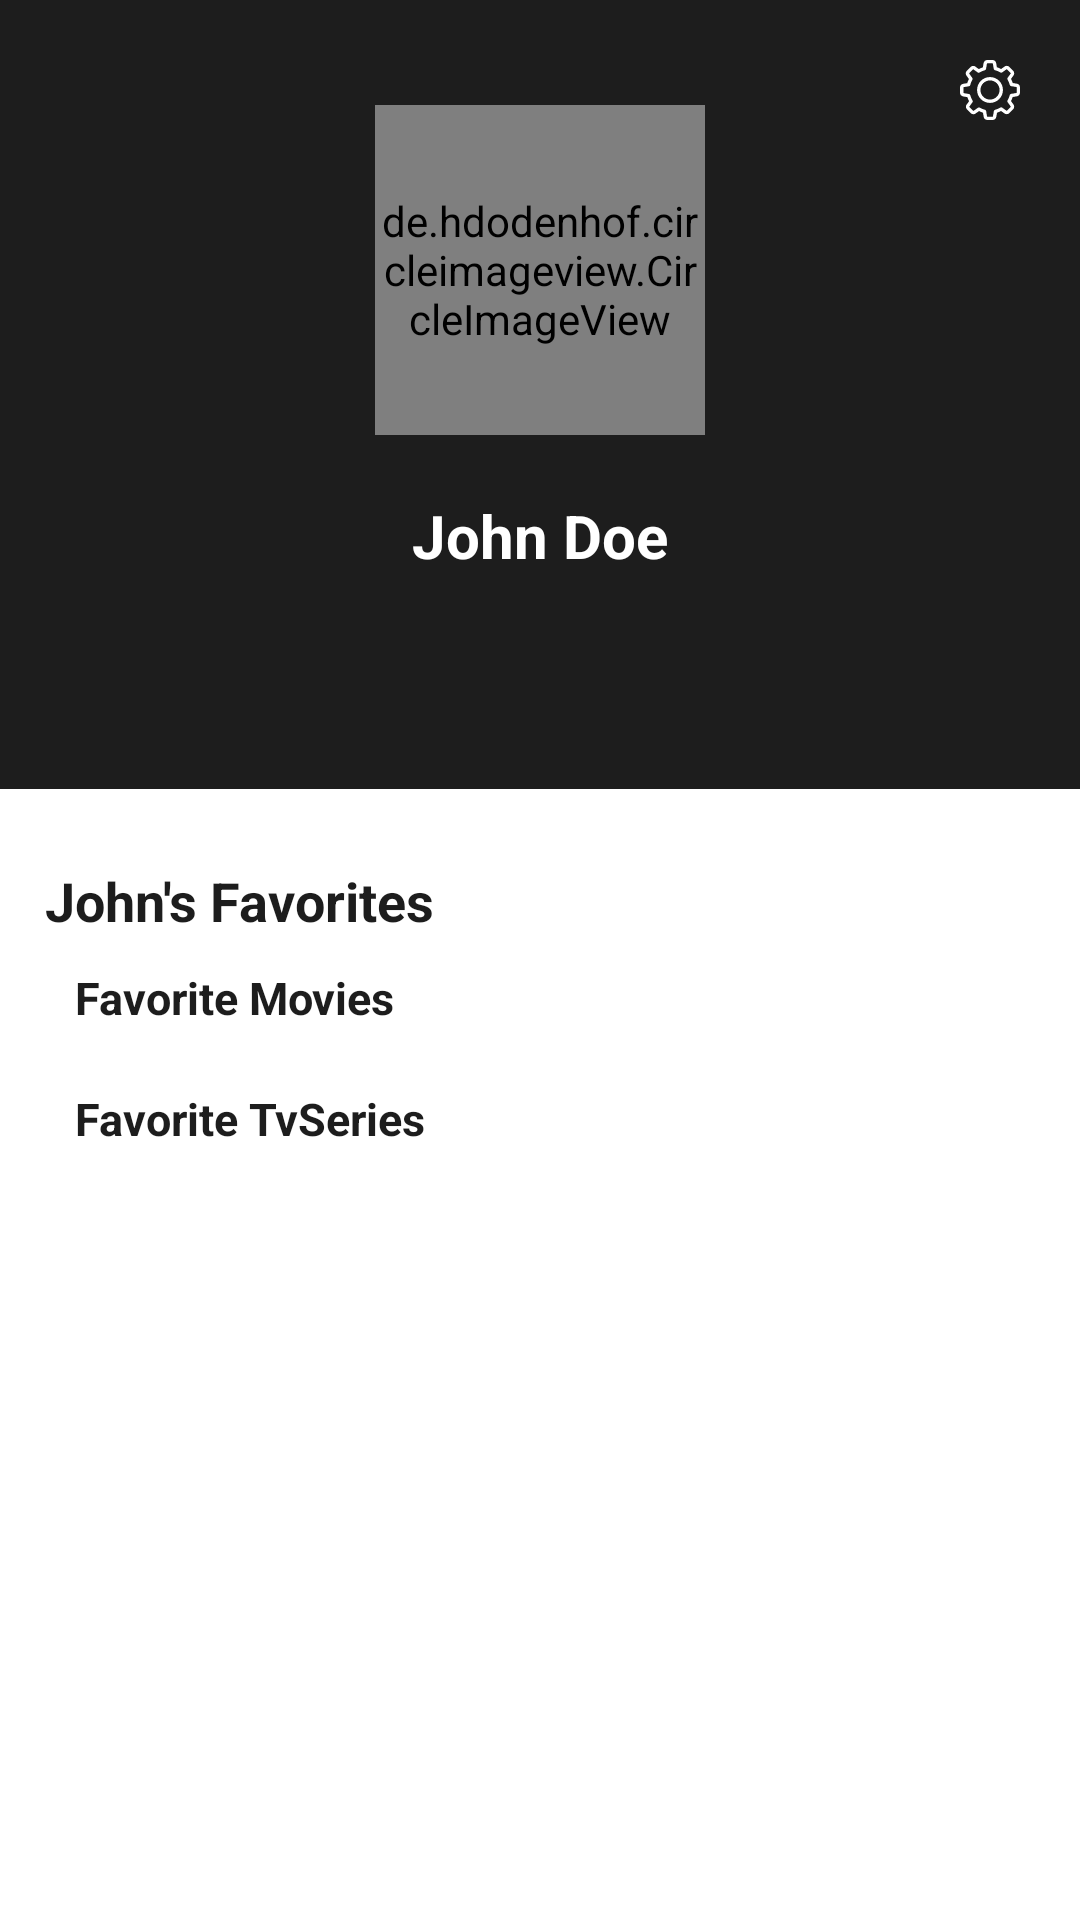

Point at icon controls on the screen. Image size 1080*1920, points as (x,y).
settings: (990,90)
